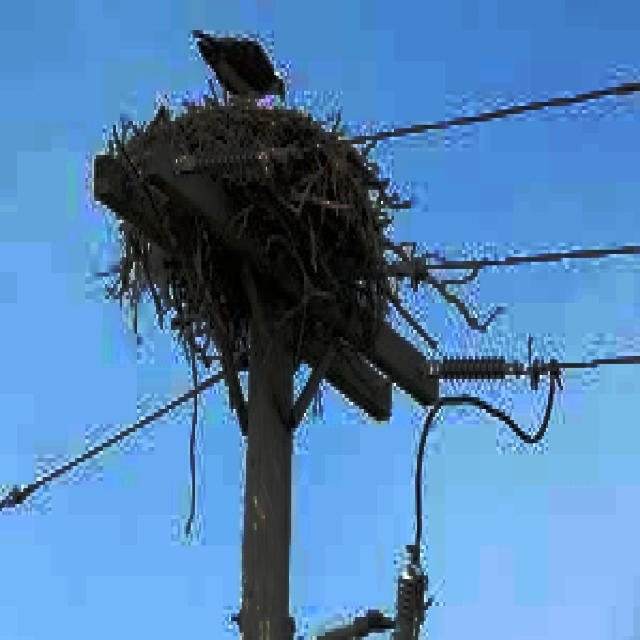obstruction: (94, 98, 430, 417)
poles: (370, 322, 561, 470), (240, 269, 306, 636), (317, 470, 422, 636), (150, 144, 225, 227), (94, 155, 137, 220)
wires: (385, 284, 638, 538), (0, 371, 223, 507), (383, 239, 638, 329), (345, 80, 638, 148)
